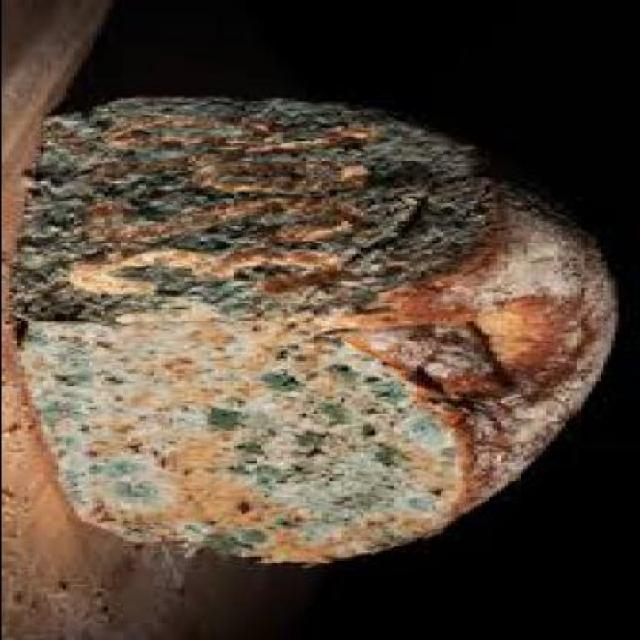BIODEGRADABLE: (20, 97, 617, 566)
